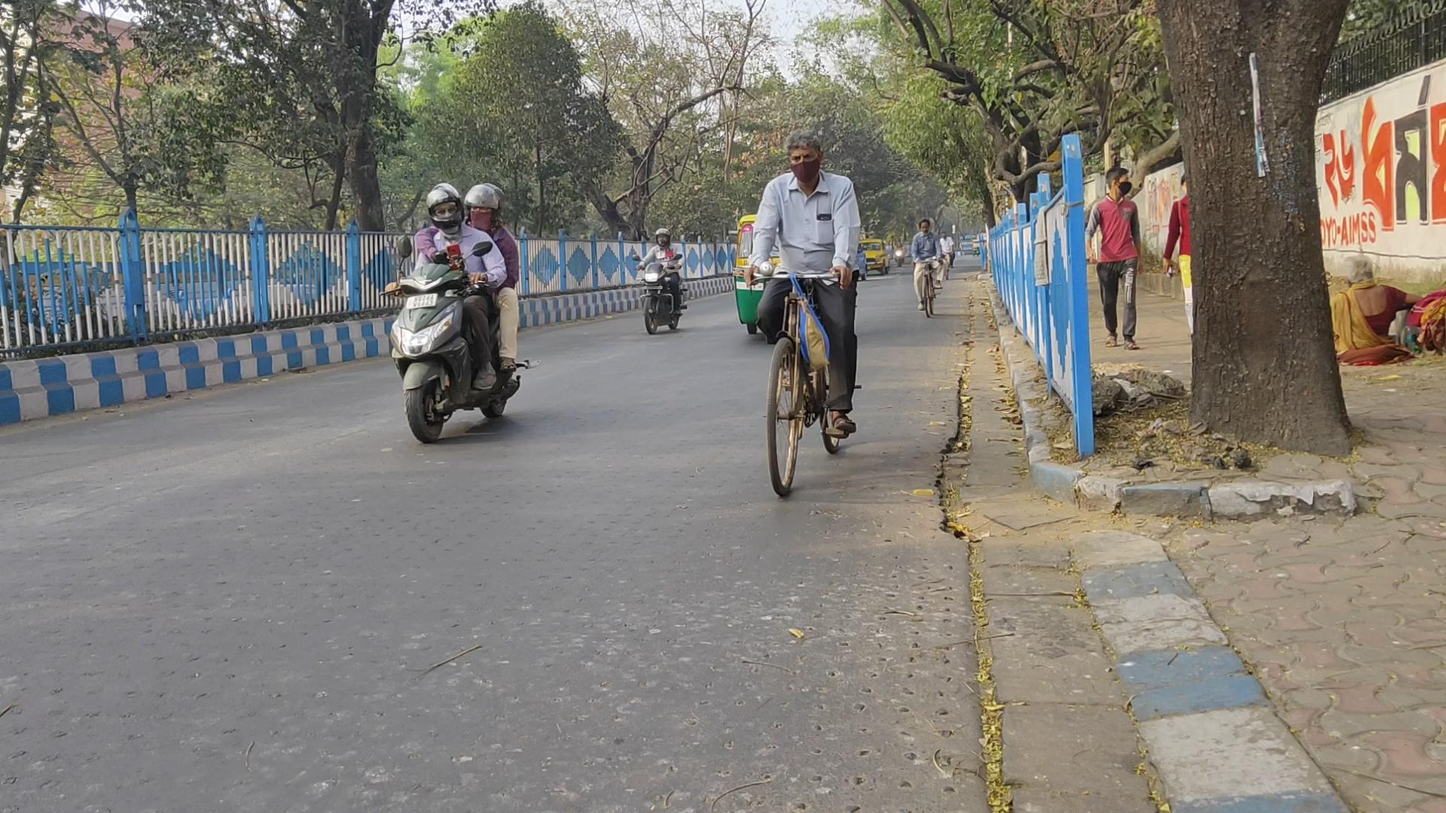bike: (746, 131, 863, 497), (381, 183, 526, 443), (631, 227, 688, 334), (912, 219, 945, 317), (893, 240, 906, 268)
car: (859, 236, 892, 278)
